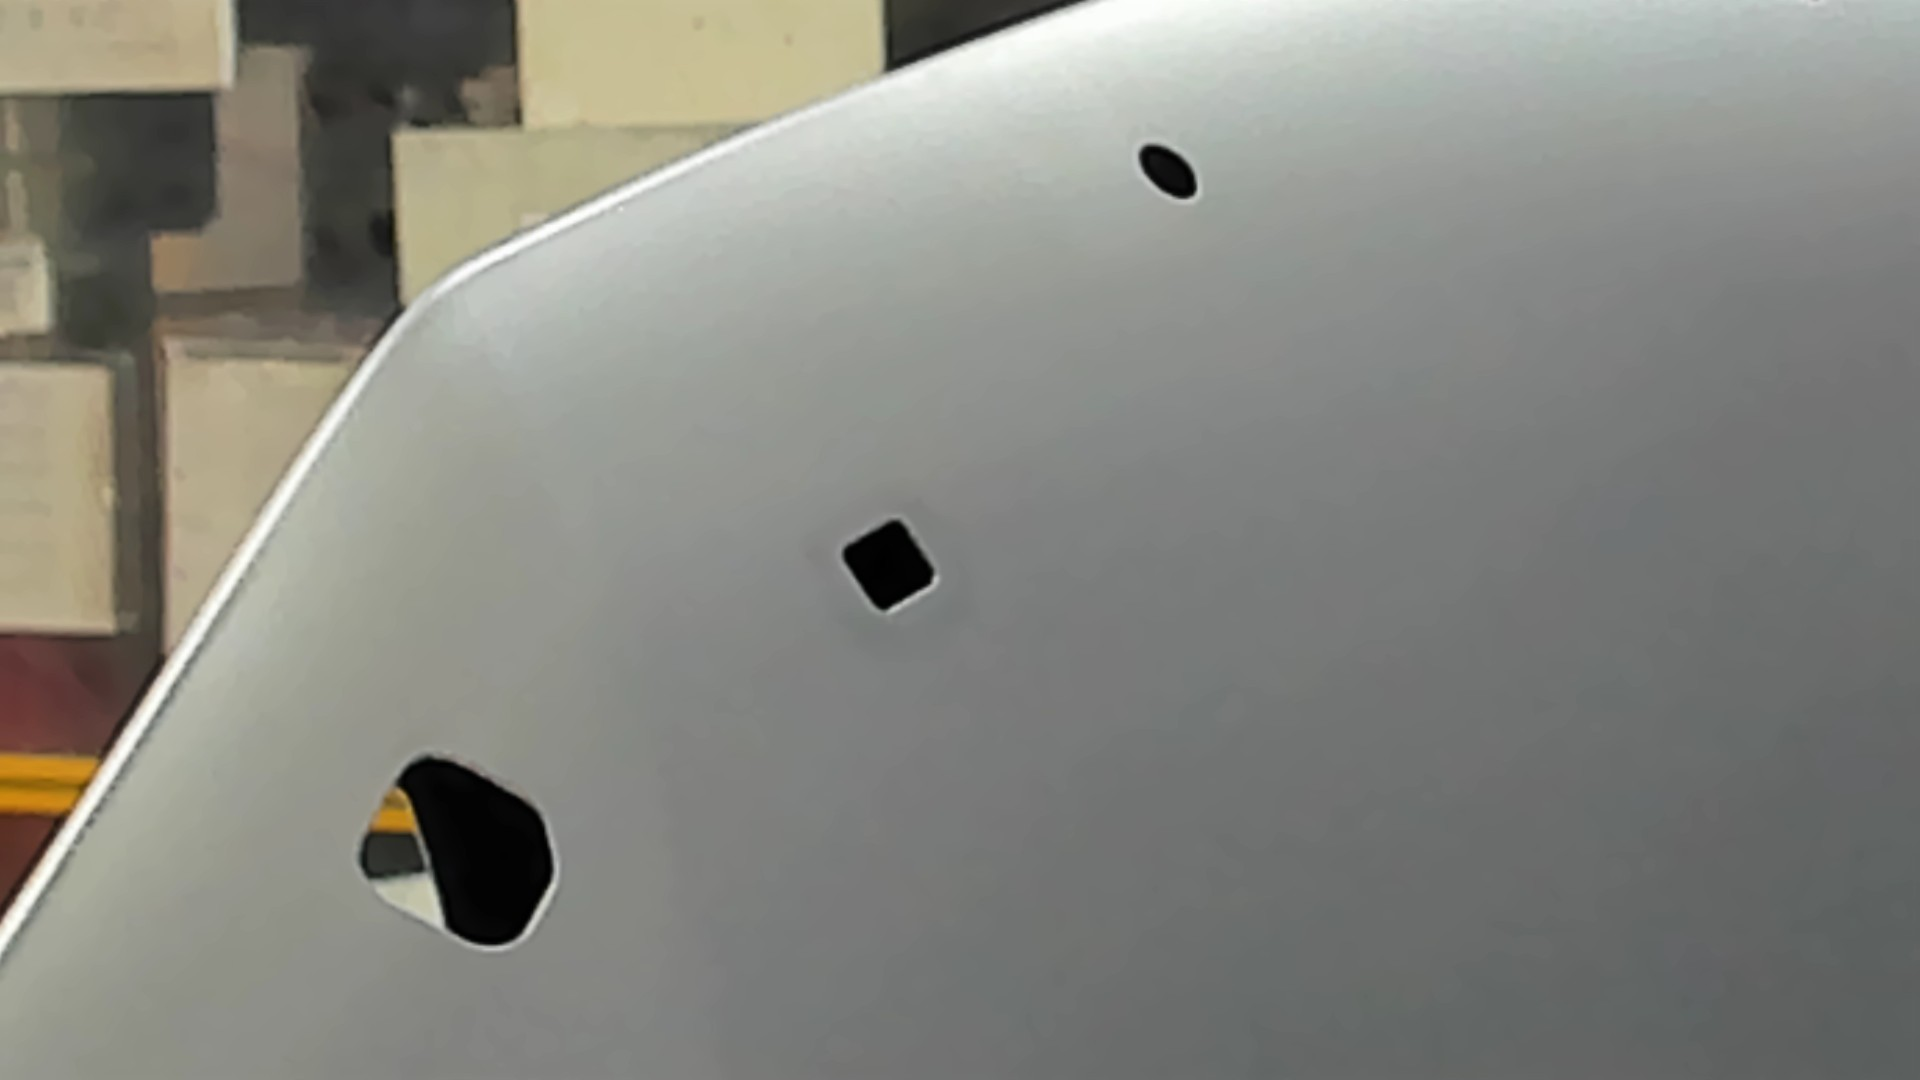chico: (1134, 136, 1203, 203)
grande: (356, 746, 564, 956)
mediano: (839, 514, 942, 618)
